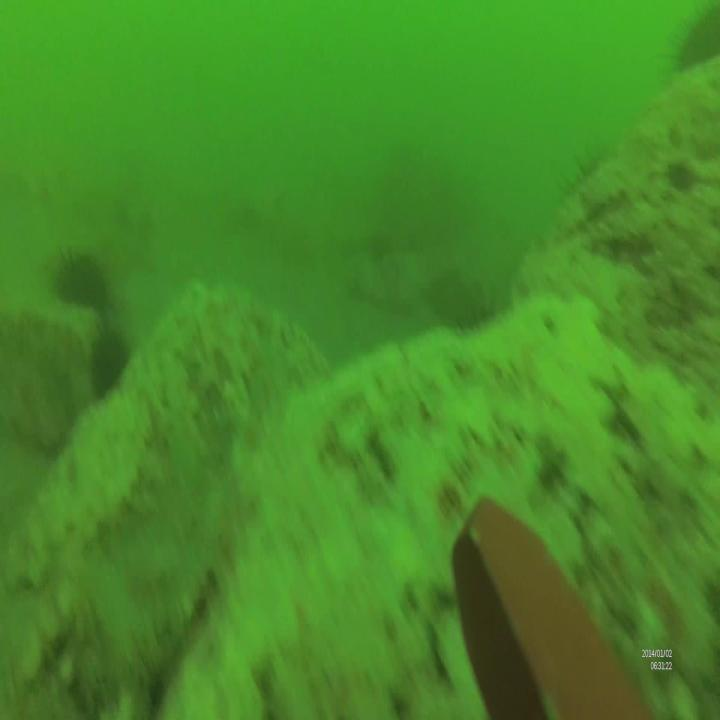echinus: (661, 1, 720, 73), (50, 250, 112, 311), (92, 317, 130, 411)
